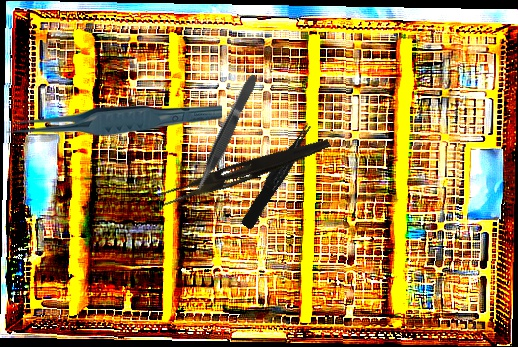Dressing Forceps: (159, 129, 332, 213)
Tissue Forceps: (236, 121, 320, 231), (190, 72, 263, 195), (6, 104, 222, 136)
